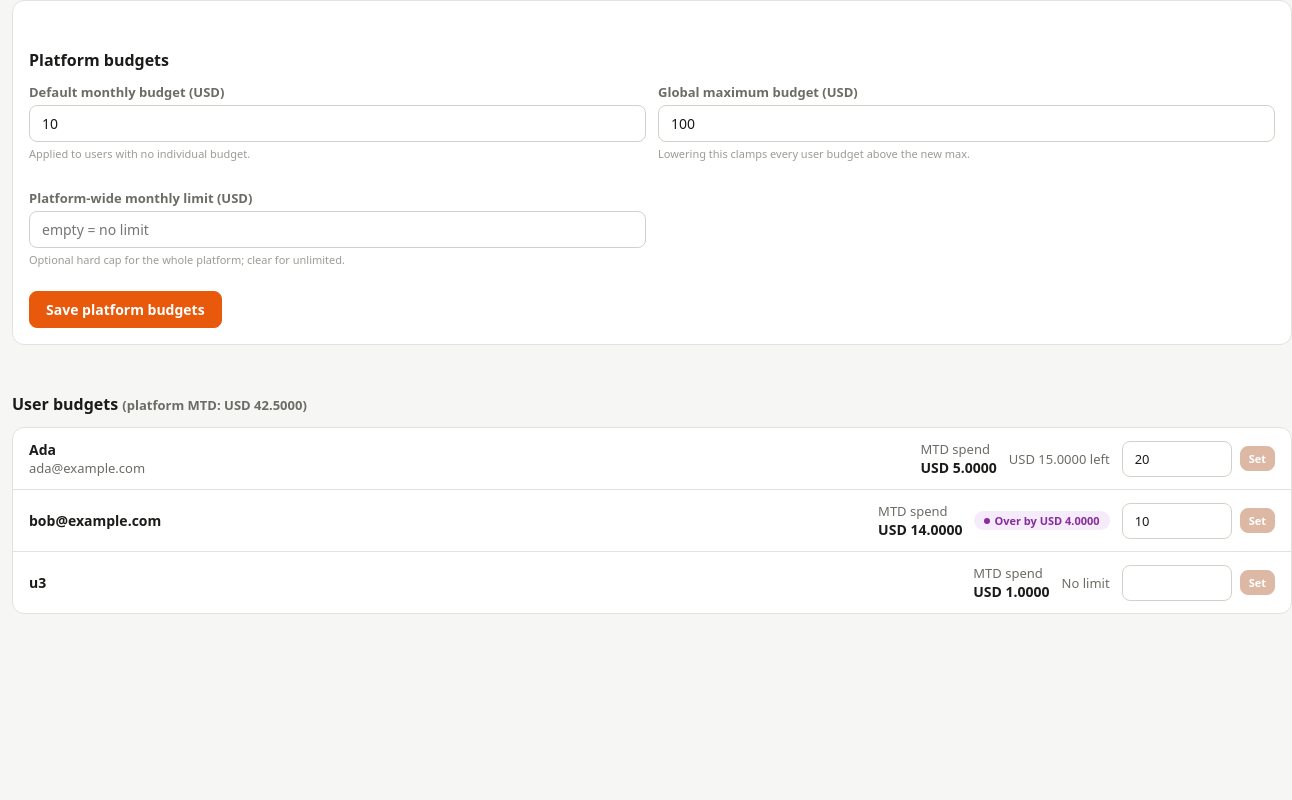
Test: User budget rows › rejects clearing a per-user budget
Clear the field named "Monthly budget for Ada". click: (1177, 458)
box: top-left (1122, 440), bottom-right (1232, 476)
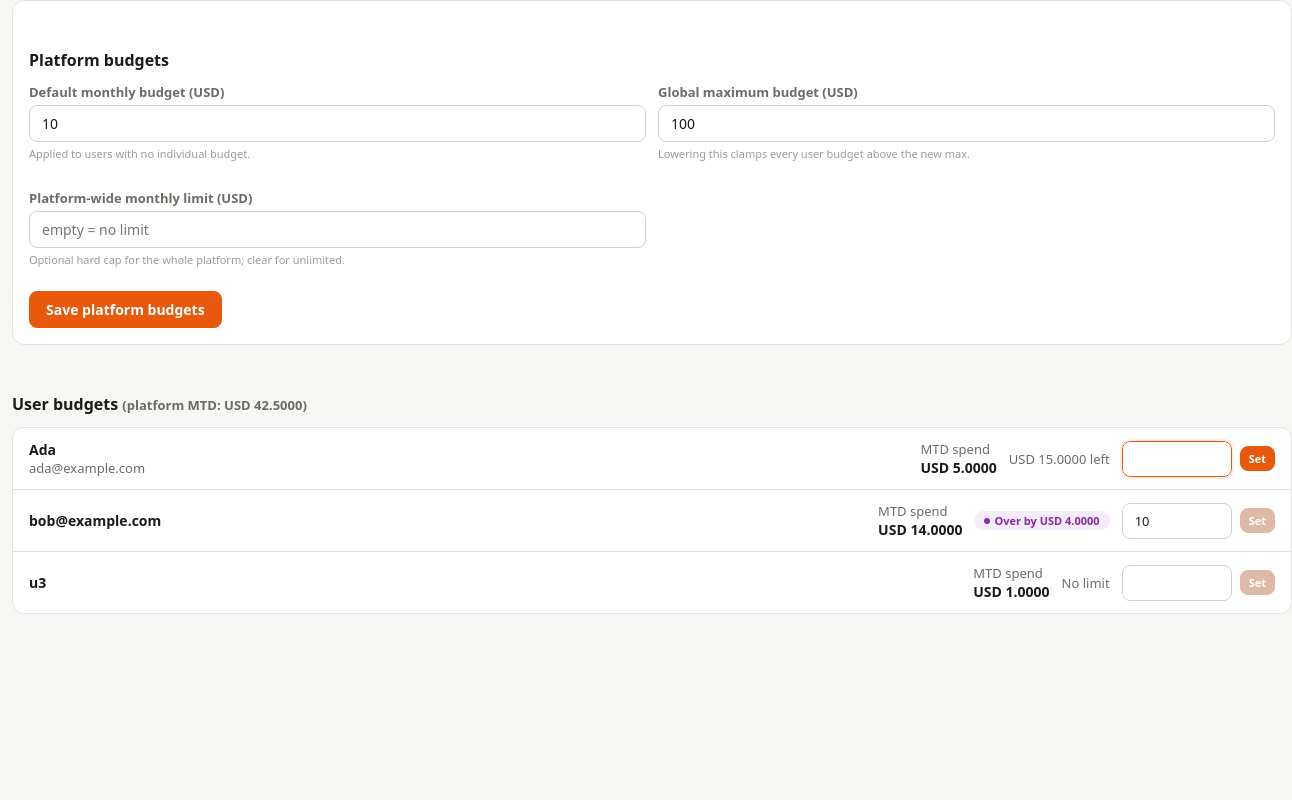
Click the button "Set" next to "USD 15.0000 left". click: (1257, 458)
box: top-left (1240, 446), bottom-right (1275, 471)
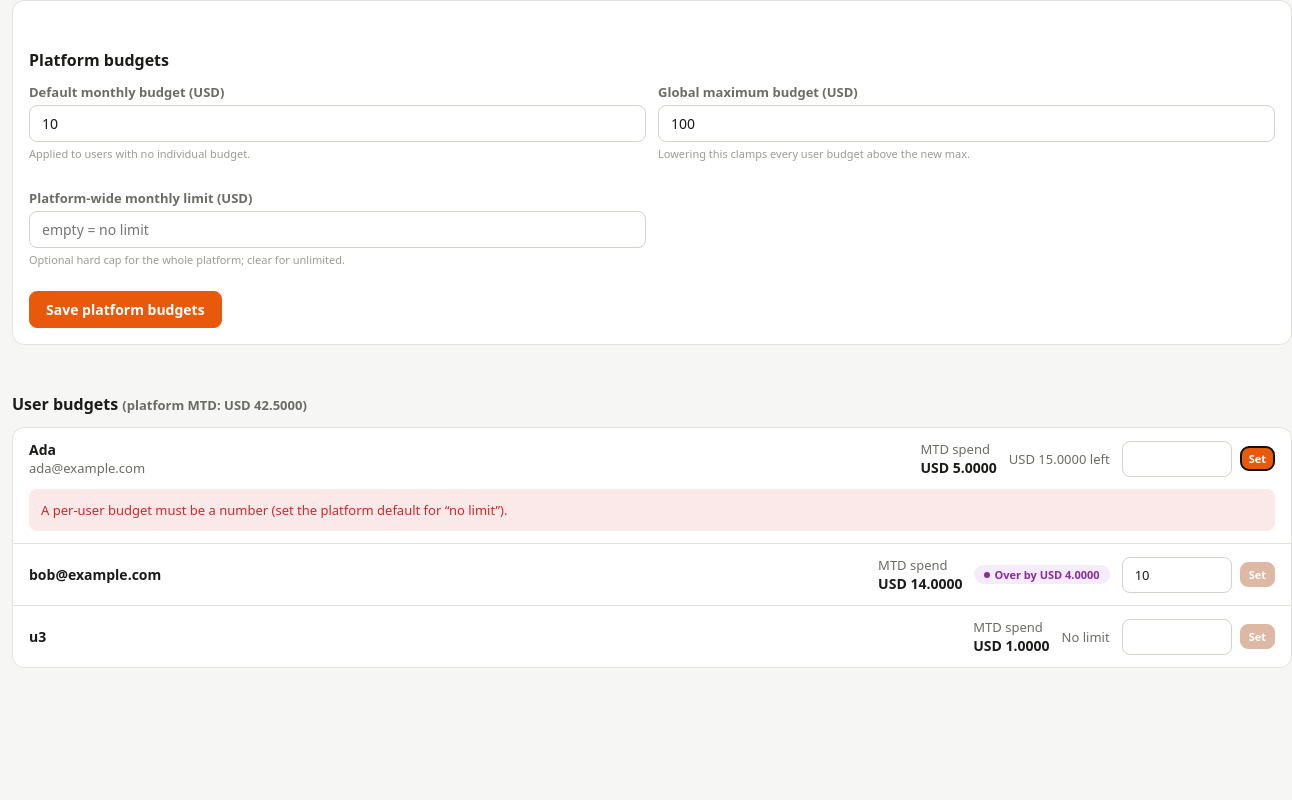
Result: the text "must be a number" is shown at top-left (41, 501), bottom-right (508, 519)
